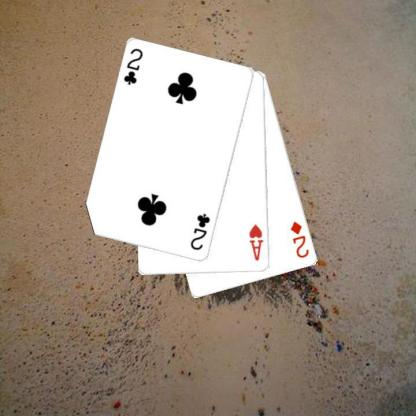2C: (188, 211, 211, 252), (121, 46, 144, 86)
2D: (288, 219, 311, 259)
AH: (246, 222, 264, 262)
